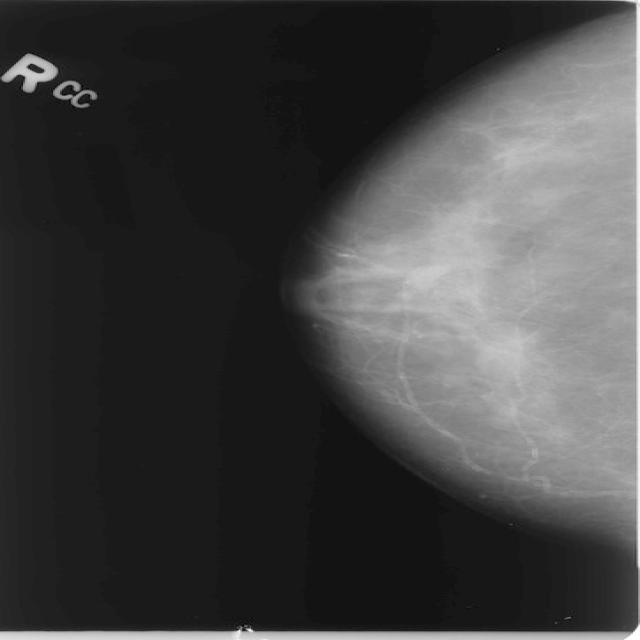tumour: (403, 263, 447, 289)
